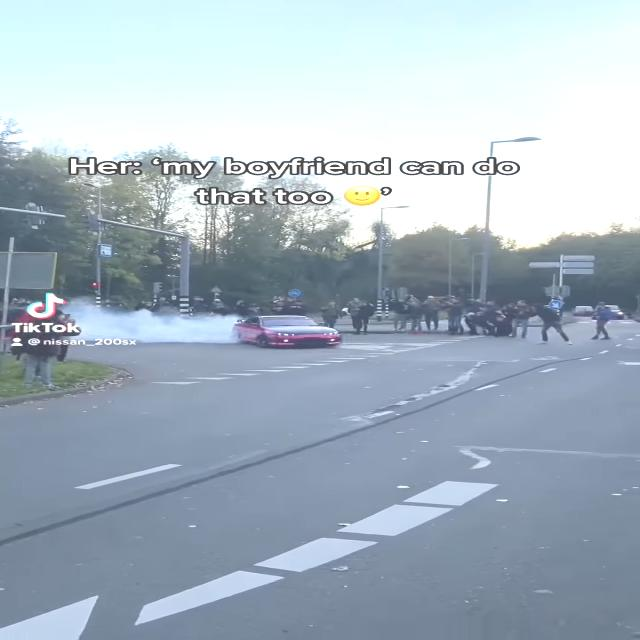car: (235, 313, 346, 351)
